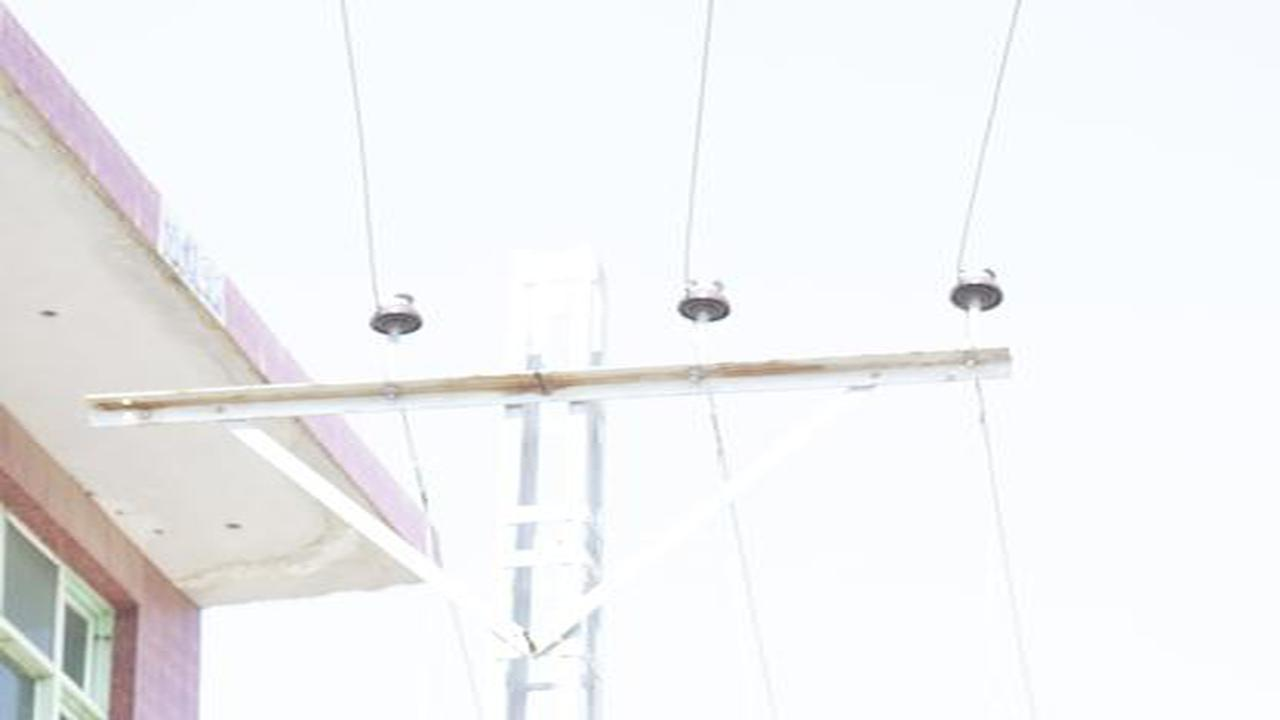insulator_pin: (948, 262, 1009, 318), (366, 287, 427, 339), (673, 275, 734, 326)
